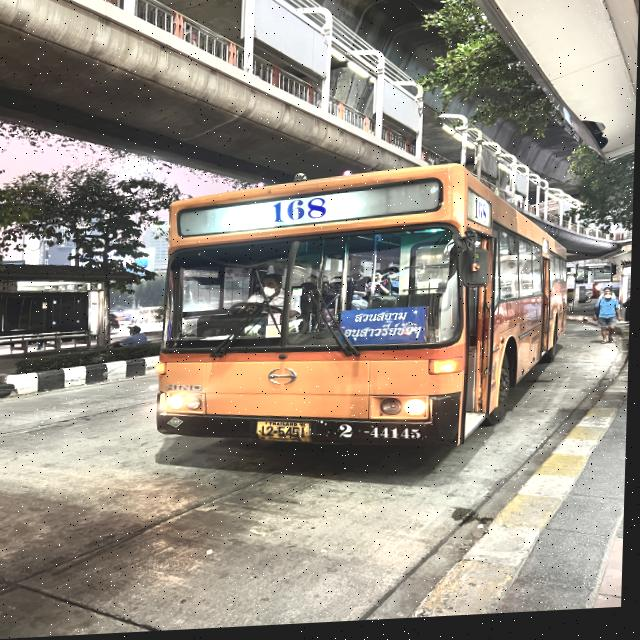BMTA-bus: (157, 165, 580, 464)
Bus-Line-Number: (265, 196, 334, 230)
Destination-Sign-Normal: (341, 310, 433, 353)
